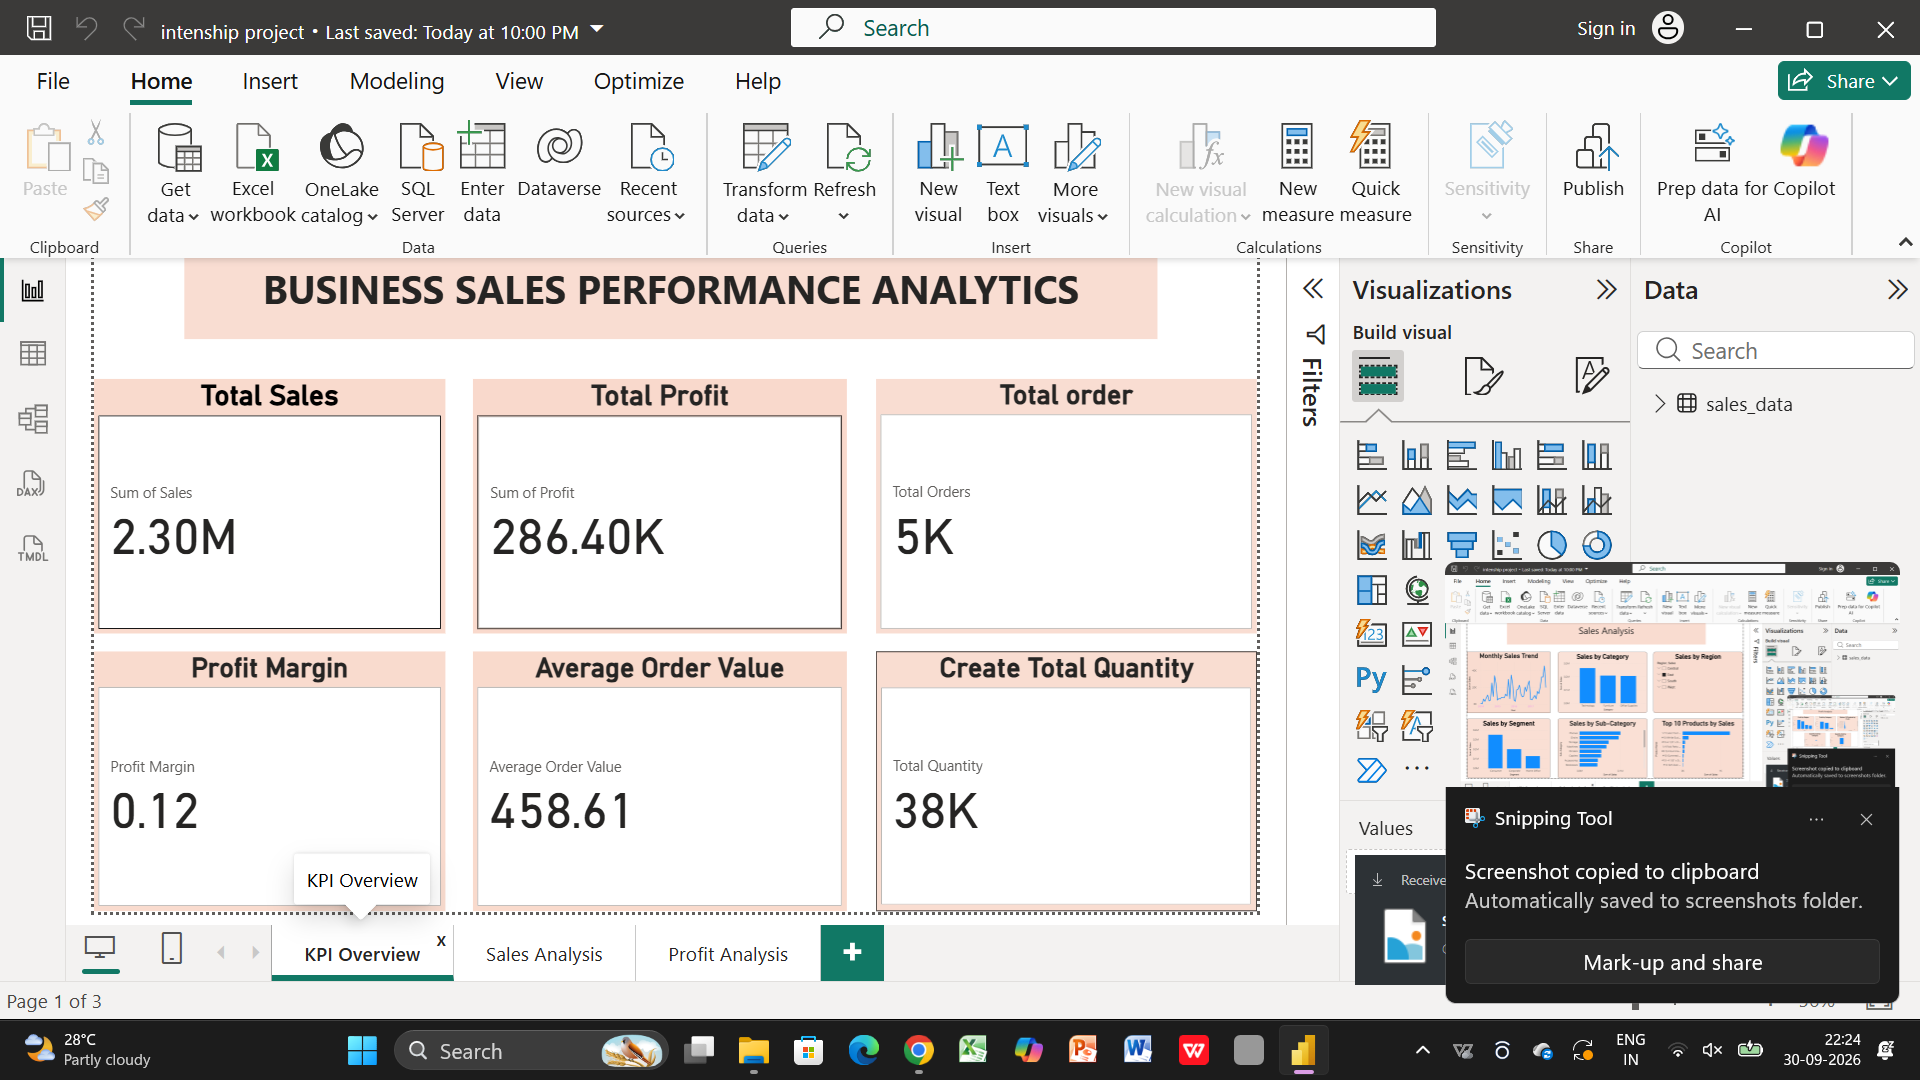

This screenshot's page, from the dashboard's own definition file:
{"tool":"powerbi","page":{"name":"KPI Overview","canvas":[1280,720],"ordinal":0},"visuals":[{"type":"cardVisual","title":"Total Sales","fields":{"Data":["Sum(sales_data.Sales)"]},"box":[0,133.2,387.1,280.6],"z":0},{"type":"cardVisual","title":"Total Profit","fields":{"Data":["Sum(sales_data.Profit)"]},"box":[417.3,133.2,412,280.6],"z":1000},{"type":"cardVisual","title":" Total order","fields":{"Data":["sales_data.Total Orders"]},"box":[861.2,133.2,419.1,280.6],"z":2000},{"type":"cardVisual","title":"Profit Margin","fields":{"Data":["sales_data.Profit Margin"]},"box":[0,433.3,387.1,285.9],"z":3000},{"type":"cardVisual","title":"Average Order Value","fields":{"Data":["sales_data.Average Order Value"]},"box":[417.3,433.3,412,285.9],"z":4000},{"type":"cardVisual","title":"Create Total Quantity","fields":{"Data":["sales_data.Total Quantity"]},"box":[861.2,433.3,419.1,285.9],"z":5000},{"type":"textbox","box":[100,0,1071.7,89.1],"z":6000}]}

Visuals, with their boxes on the page's 1280x720 design canvas (x1, y1, x2, y2). These are canvas units, not pixel positions in the 1920x1080 screenshot, which may show the page scaled, cropped or inside an application window:
"Total Sales" cardVisual: <box>0,133,387,414</box>
"Total Profit" cardVisual: <box>417,133,829,414</box>
" Total order" cardVisual: <box>861,133,1280,414</box>
"Profit Margin" cardVisual: <box>0,433,387,719</box>
"Average Order Value" cardVisual: <box>417,433,829,719</box>
"Create Total Quantity" cardVisual: <box>861,433,1280,719</box>
textbox: <box>100,0,1172,89</box>
